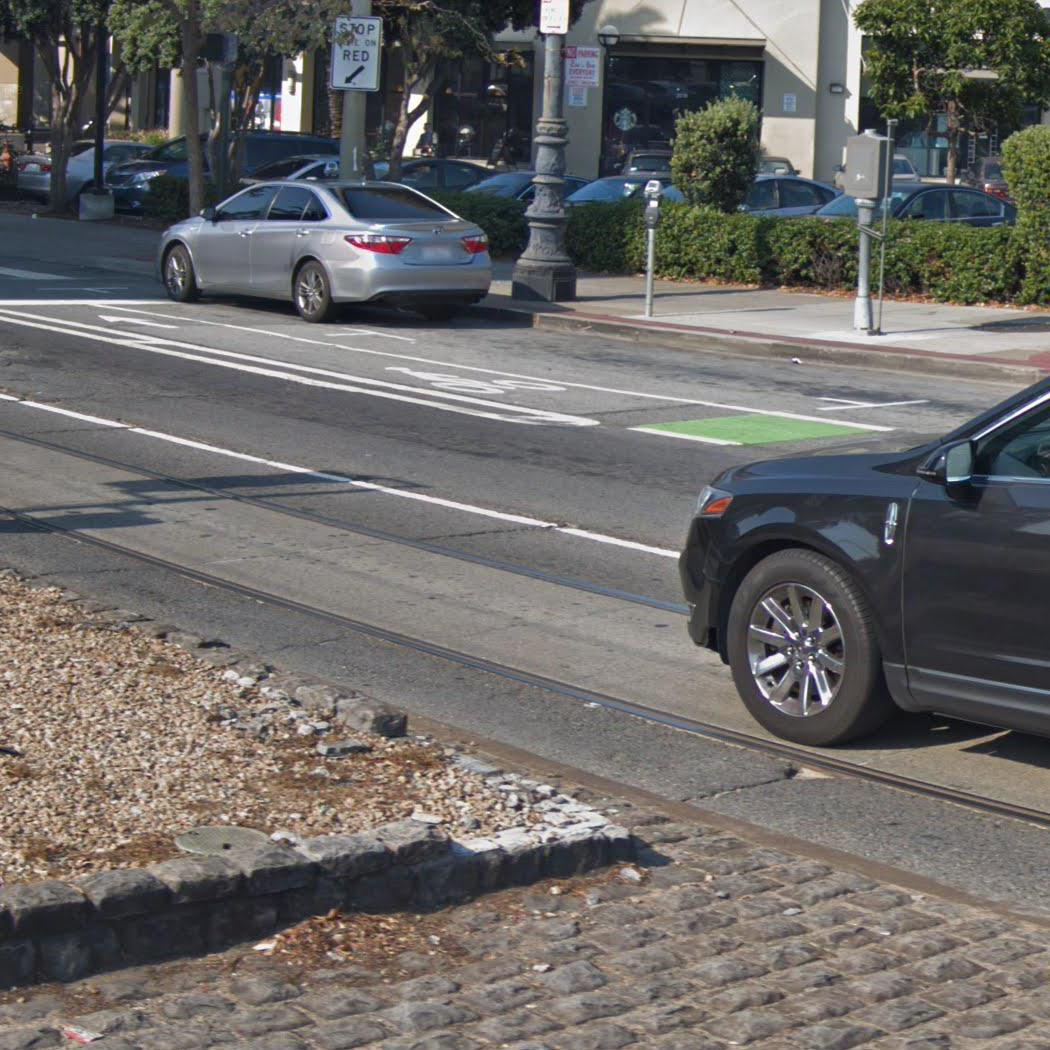No Parking: (561, 43, 602, 89)
